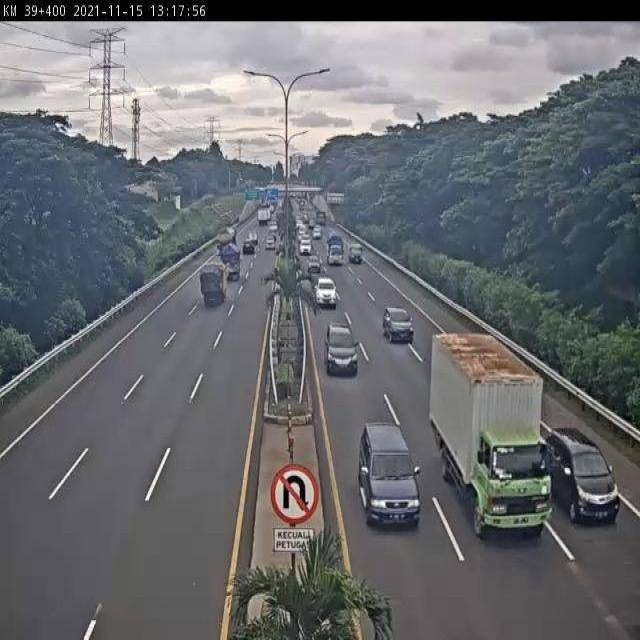car: (542, 423, 621, 528), (357, 420, 423, 529), (323, 323, 360, 377), (381, 304, 415, 347), (313, 273, 339, 308)
truck-m-: (430, 331, 552, 536), (196, 263, 227, 309), (216, 244, 244, 285)
